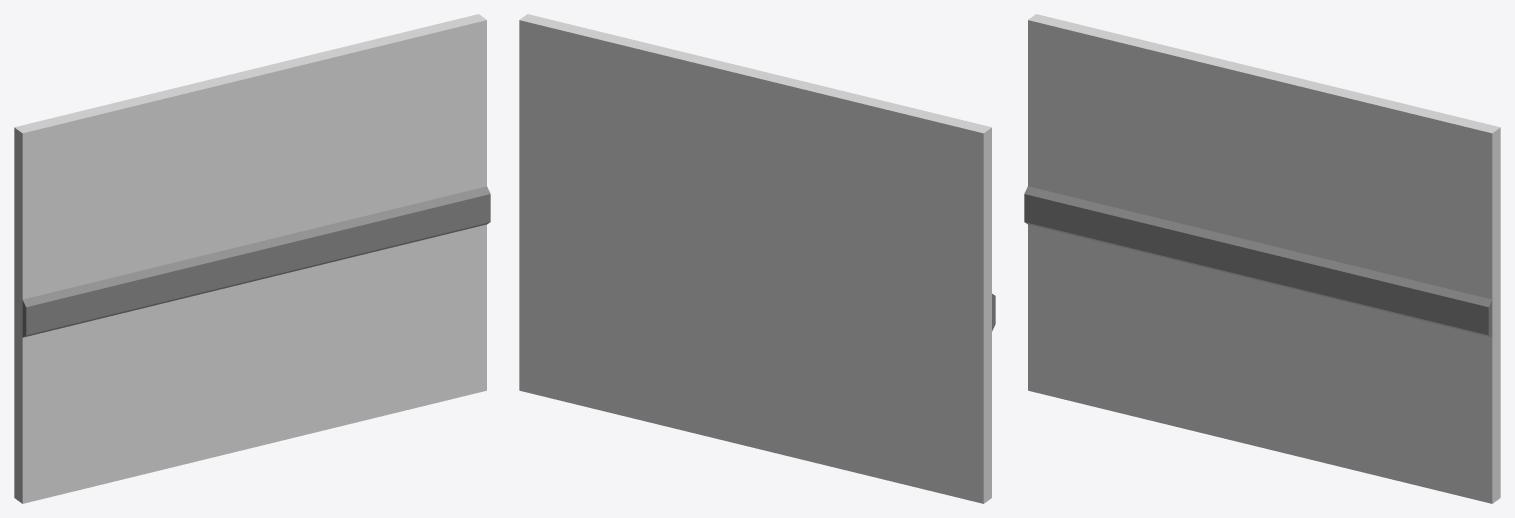
Rendered from Counter_3_A.glb.
3 renders of one model, left to right at view 1: azimuth 30°, elevation 25°; view 2: azimuth 150°, elevation 25°; view 3: azimuth 330°, elevation 25°, orthographic.
Visible parts, largest first — view 1: Counter 3 A; view 2: Counter 3 A; view 3: Counter 3 A.
Part boxes in pixels (<box>): Counter 3 A: <box>14,14,490,503</box>; Counter 3 A: <box>519,14,995,503</box>; Counter 3 A: <box>1024,14,1500,503</box>.
Size of the model in its own units: 1 by 0.7623 by 0.0444.
1 material, 1 textured.
